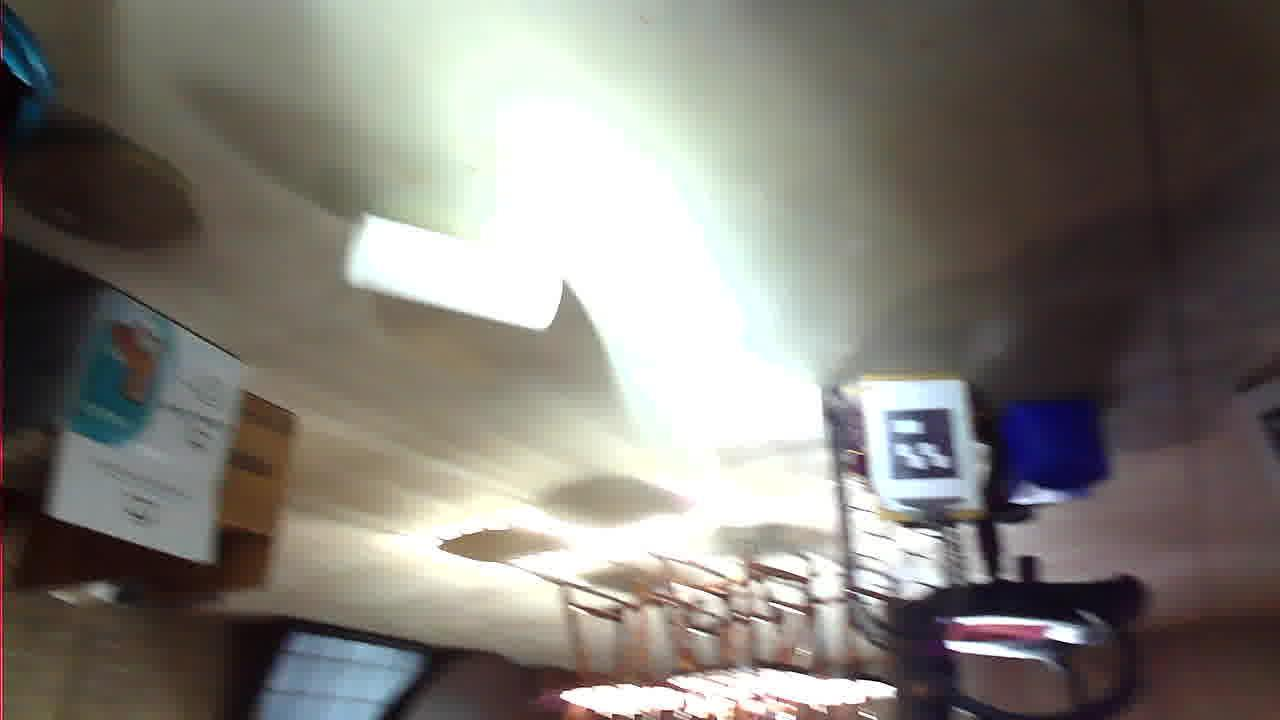coral: (722, 393, 934, 508)
